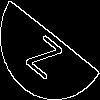Z: (25, 25, 69, 81)
